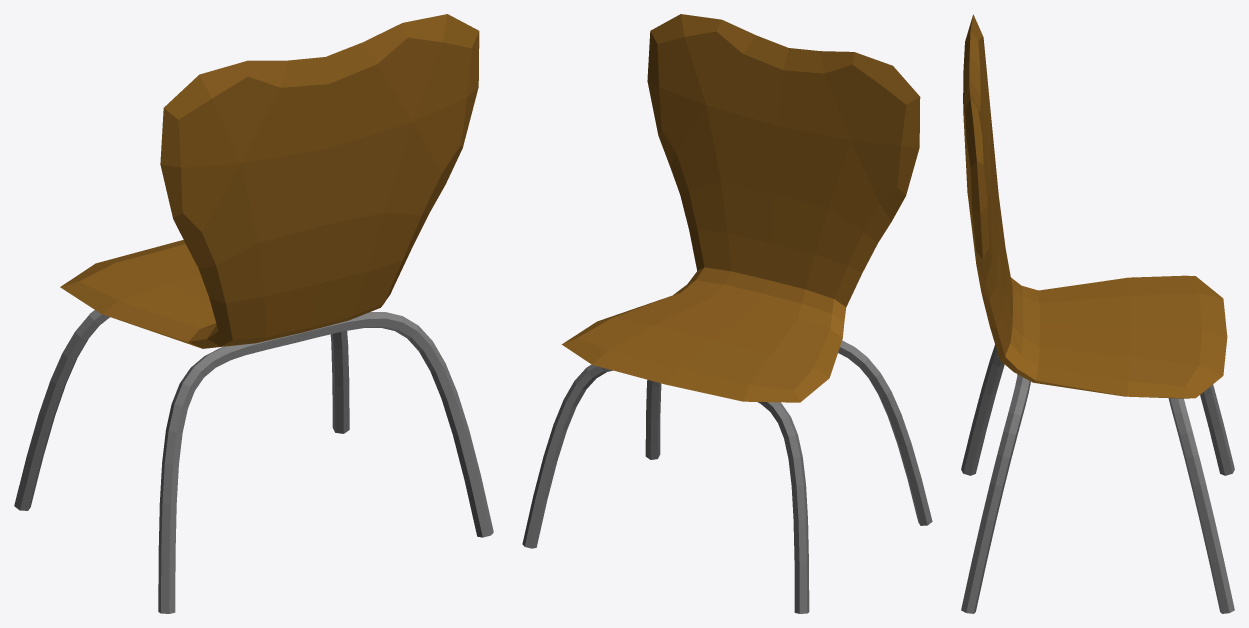
The model's file is Chair.fbx.
3 renders of one model, left to right at view 1: azimuth 30°, elevation 25°; view 2: azimuth 150°, elevation 25°; view 3: azimuth 270°, elevation 25°, orthographic. The views are drawn at different scales.
Parts seen in each view (by area): view 1: Chair; view 2: Chair; view 3: Chair.
Boxes of the visible parts, box(x1,y1,x2,y2) form: Chair: box(14, 14, 493, 613); Chair: box(522, 14, 932, 613); Chair: box(961, 14, 1234, 613).
Size of the model in its own units: 50.54 by 77.25 by 40.13.
